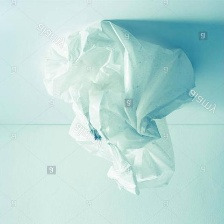plastic_bag: (41, 13, 198, 197)
